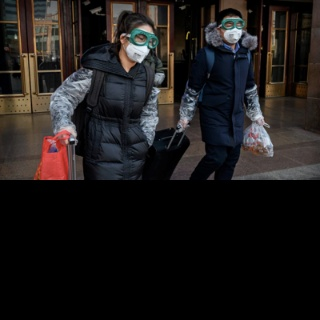with_mask: (125, 31, 157, 65), (221, 19, 244, 44)
